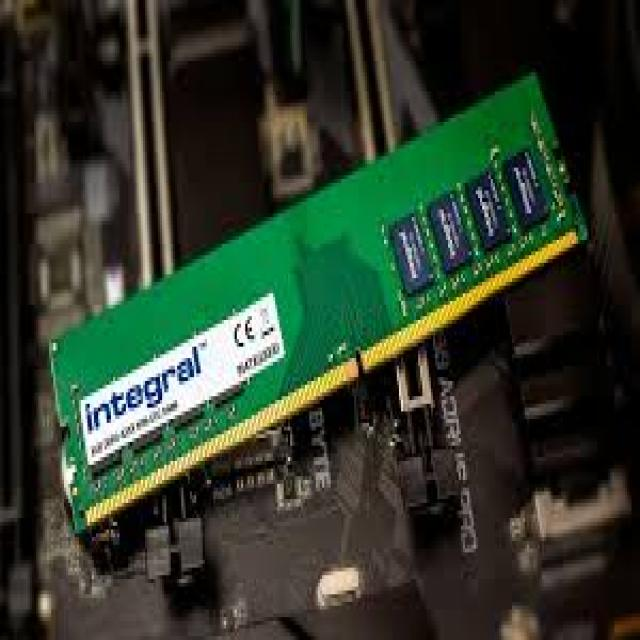Ram: (57, 112, 564, 548)
